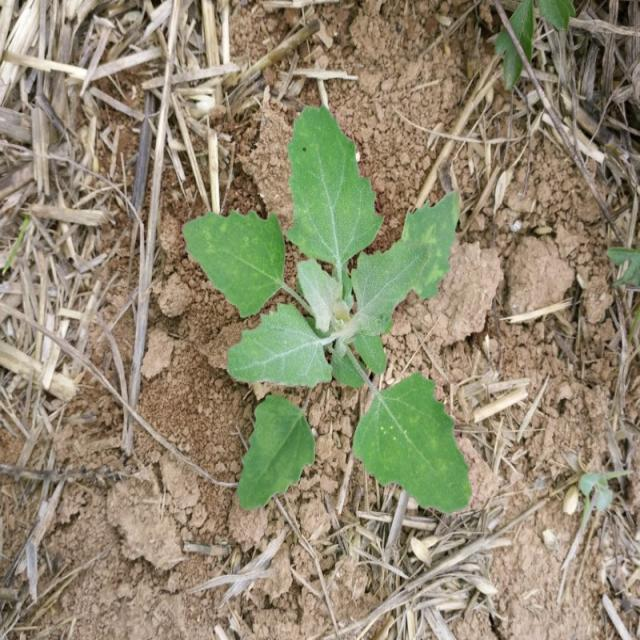ca: (228, 107, 471, 512)
